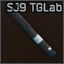SJ9 TGLabs combat stimulant injector: (0, 0, 64, 64)
